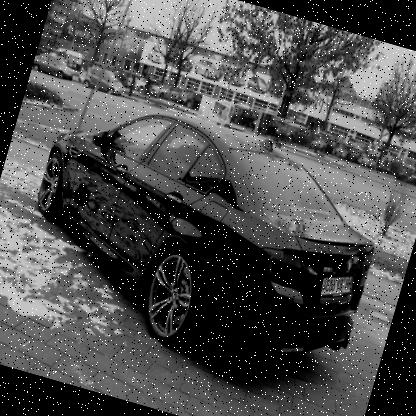Car: (8, 84, 395, 392), (76, 60, 415, 185), (148, 43, 272, 94), (82, 64, 127, 96), (32, 51, 76, 81)
